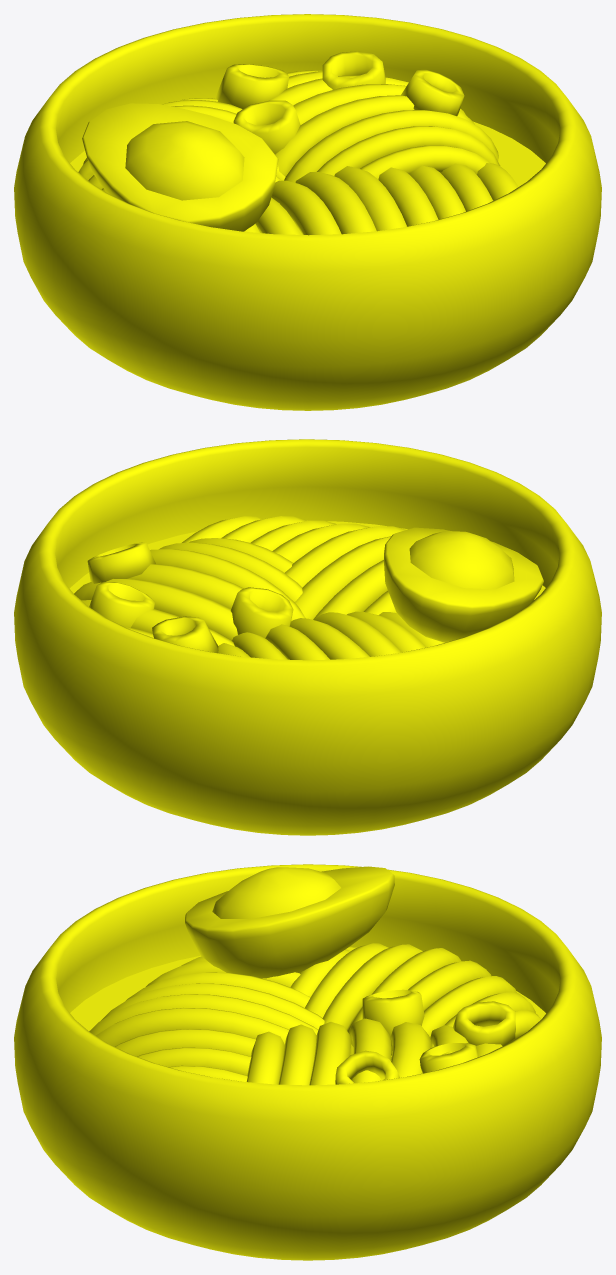
3 views of the same model, one above another, from view 1: azimuth 30°, elevation 25°; view 2: azimuth 150°, elevation 25°; view 3: azimuth 270°, elevation 25° (orthographic).
Visible parts, largest first — view 1: noodles_002; view 2: noodles_002; view 3: noodles_002.
Part boxes in pixels (<box>): noodles_002: <box>14,14,601,410</box>; noodles_002: <box>14,439,601,835</box>; noodles_002: <box>14,864,601,1260</box>.
Bounding box in the file's own units: 0.2106 × 0.1015 × 0.2106.
1 material, 1 textured.
